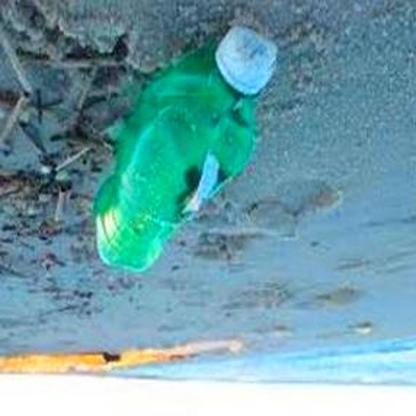plastic bottle: (93, 27, 280, 274)
